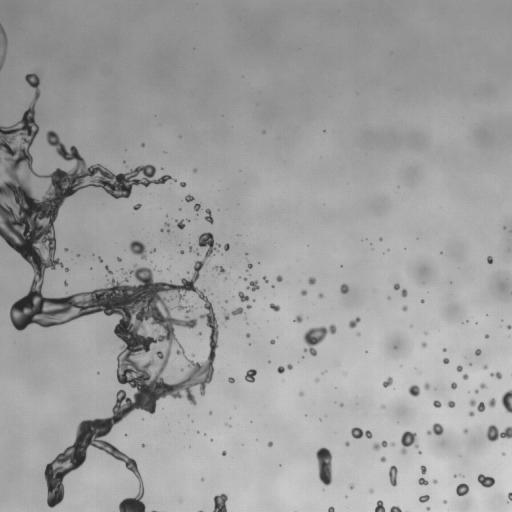droplet: (303, 324, 336, 356), (486, 424, 511, 441), (400, 431, 418, 454), (129, 240, 146, 259), (213, 493, 227, 511), (477, 474, 495, 487), (426, 423, 443, 435), (456, 483, 469, 496), (244, 369, 256, 382), (408, 384, 420, 396), (246, 280, 259, 291), (348, 317, 360, 328), (238, 291, 249, 302), (382, 376, 392, 387), (375, 500, 385, 511), (213, 265, 225, 274), (231, 307, 244, 315), (175, 220, 184, 229), (340, 283, 348, 293), (269, 303, 279, 311), (418, 477, 428, 485), (419, 494, 429, 502), (488, 398, 496, 407), (185, 195, 194, 202), (446, 400, 455, 407), (193, 203, 200, 211), (294, 315, 302, 322), (433, 400, 441, 407), (420, 465, 426, 474), (308, 277, 315, 284), (133, 204, 141, 210), (401, 289, 407, 297), (276, 275, 282, 282), (451, 382, 457, 389), (301, 289, 307, 295), (475, 349, 481, 355), (443, 358, 449, 364), (456, 365, 462, 371), (228, 377, 234, 383), (224, 243, 229, 250), (487, 256, 492, 263), (394, 283, 399, 290), (180, 182, 186, 187), (224, 314, 229, 320), (462, 374, 468, 379), (424, 383, 429, 389), (480, 383, 486, 388), (380, 456, 385, 462), (248, 262, 252, 269), (164, 222, 169, 227), (318, 293, 323, 298), (402, 306, 407, 311), (421, 342, 426, 347), (468, 411, 473, 416), (328, 507, 334, 511), (189, 247, 193, 252), (98, 257, 102, 262), (270, 339, 274, 344), (268, 441, 272, 446), (345, 441, 349, 446), (222, 450, 226, 455), (432, 479, 437, 483), (349, 484, 353, 489), (180, 250, 184, 254), (195, 251, 199, 255), (117, 257, 121, 261), (246, 304, 250, 308), (507, 325, 511, 329), (246, 333, 250, 337), (485, 334, 489, 338), (483, 365, 487, 369), (474, 389, 478, 393), (299, 392, 303, 396), (463, 429, 467, 433), (390, 442, 394, 446), (369, 489, 373, 493), (225, 423, 230, 426), (151, 249, 154, 253), (141, 143, 144, 146), (193, 168, 196, 171), (167, 229, 170, 232), (65, 268, 68, 271), (244, 277, 247, 280), (64, 282, 67, 285), (421, 299, 424, 302), (198, 332, 201, 335), (315, 378, 318, 381), (340, 403, 343, 406), (454, 474, 457, 477), (379, 238, 382, 240), (65, 248, 67, 251), (443, 348, 445, 351), (382, 405, 384, 408), (142, 444, 144, 447), (502, 452, 504, 455), (444, 500, 446, 503), (427, 507, 429, 510), (187, 219, 189, 221), (161, 229, 163, 231), (245, 253, 247, 255), (167, 267, 169, 269), (158, 270, 160, 272), (357, 333, 359, 335), (469, 363, 471, 365), (419, 451, 421, 453), (201, 478, 203, 480)
ligament: (0, 74, 220, 511), (316, 447, 332, 485), (0, 24, 7, 69), (350, 427, 372, 438), (501, 389, 511, 413), (469, 399, 485, 412), (389, 465, 397, 486), (373, 440, 388, 450), (277, 364, 292, 373), (205, 208, 213, 223), (490, 372, 502, 379), (389, 506, 402, 511), (105, 265, 112, 274), (263, 276, 268, 282), (508, 492, 511, 501), (152, 510, 156, 511), (199, 510, 202, 511)
